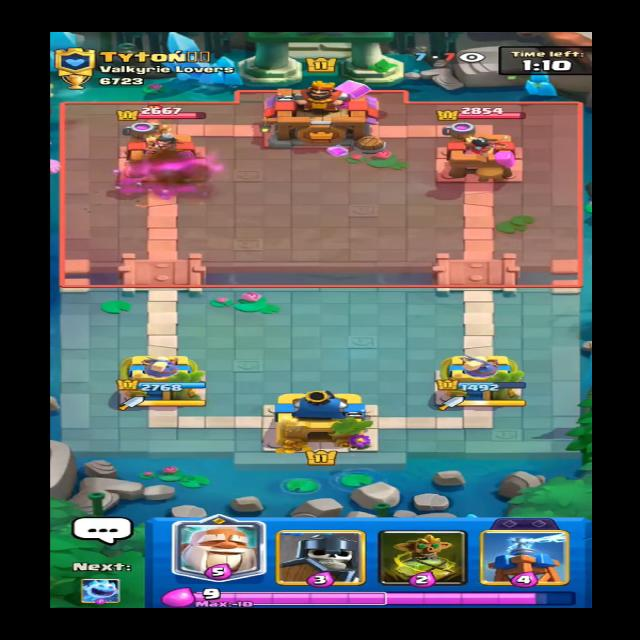wizard: (126, 102, 189, 140)
